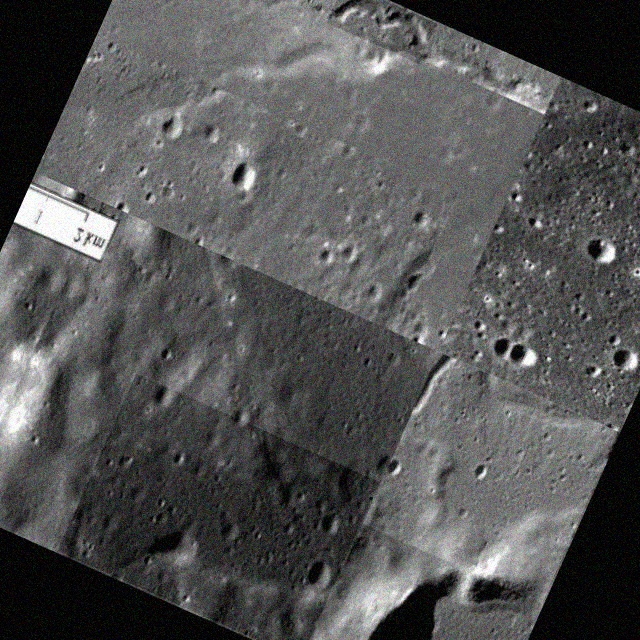crater: (57, 374, 379, 640), (362, 351, 618, 604), (326, 0, 436, 64)
